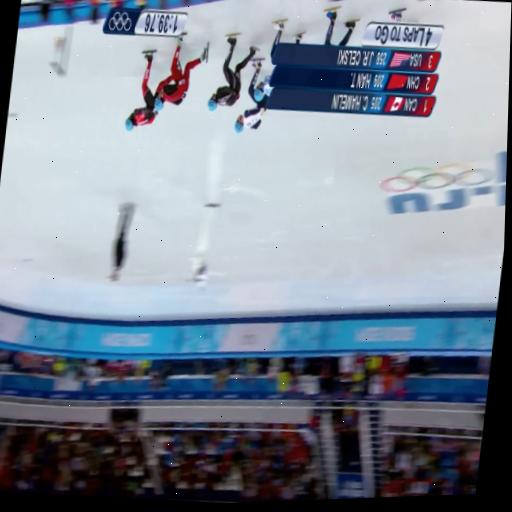Skater: (154, 32, 208, 109), (207, 33, 257, 110), (124, 49, 171, 130), (234, 58, 267, 132), (270, 19, 286, 56), (324, 5, 338, 44)
